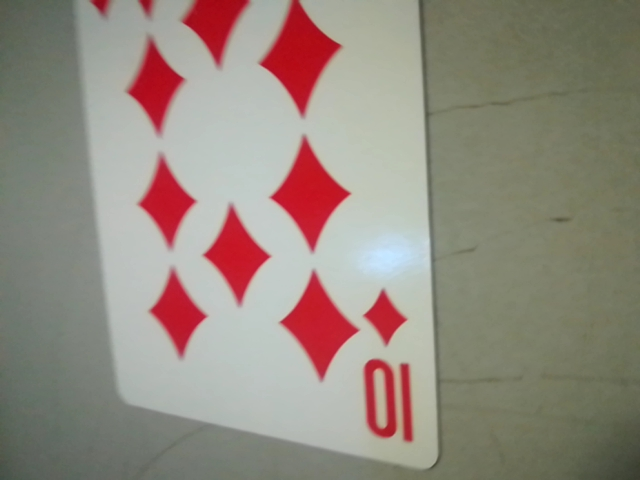fk 10: (352, 277, 427, 460)
